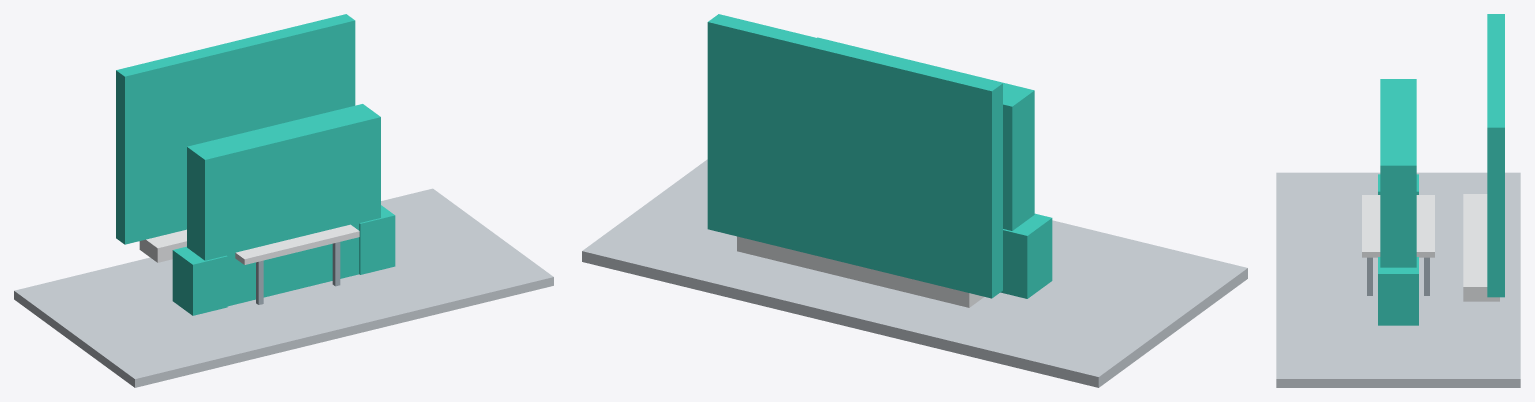
3 views of the same model, side by side, from view 1: azimuth 30°, elevation 25°; view 2: azimuth 150°, elevation 25°; view 3: azimuth 270°, elevation 25° (orthographic). The views are drawn at different scales.
Visible parts, largest first — view 1: Exhibition Booth Concept; view 2: Exhibition Booth Concept; view 3: Exhibition Booth Concept.
Boxes of the visible parts, left/top/right/bottom form: Exhibition Booth Concept: left=14, top=14, right=553, bottom=387; Exhibition Booth Concept: left=582, top=14, right=1247, bottom=387; Exhibition Booth Concept: left=1276, top=14, right=1520, bottom=387.
Size of the model in its own units: 6 by 2.9 by 3.
